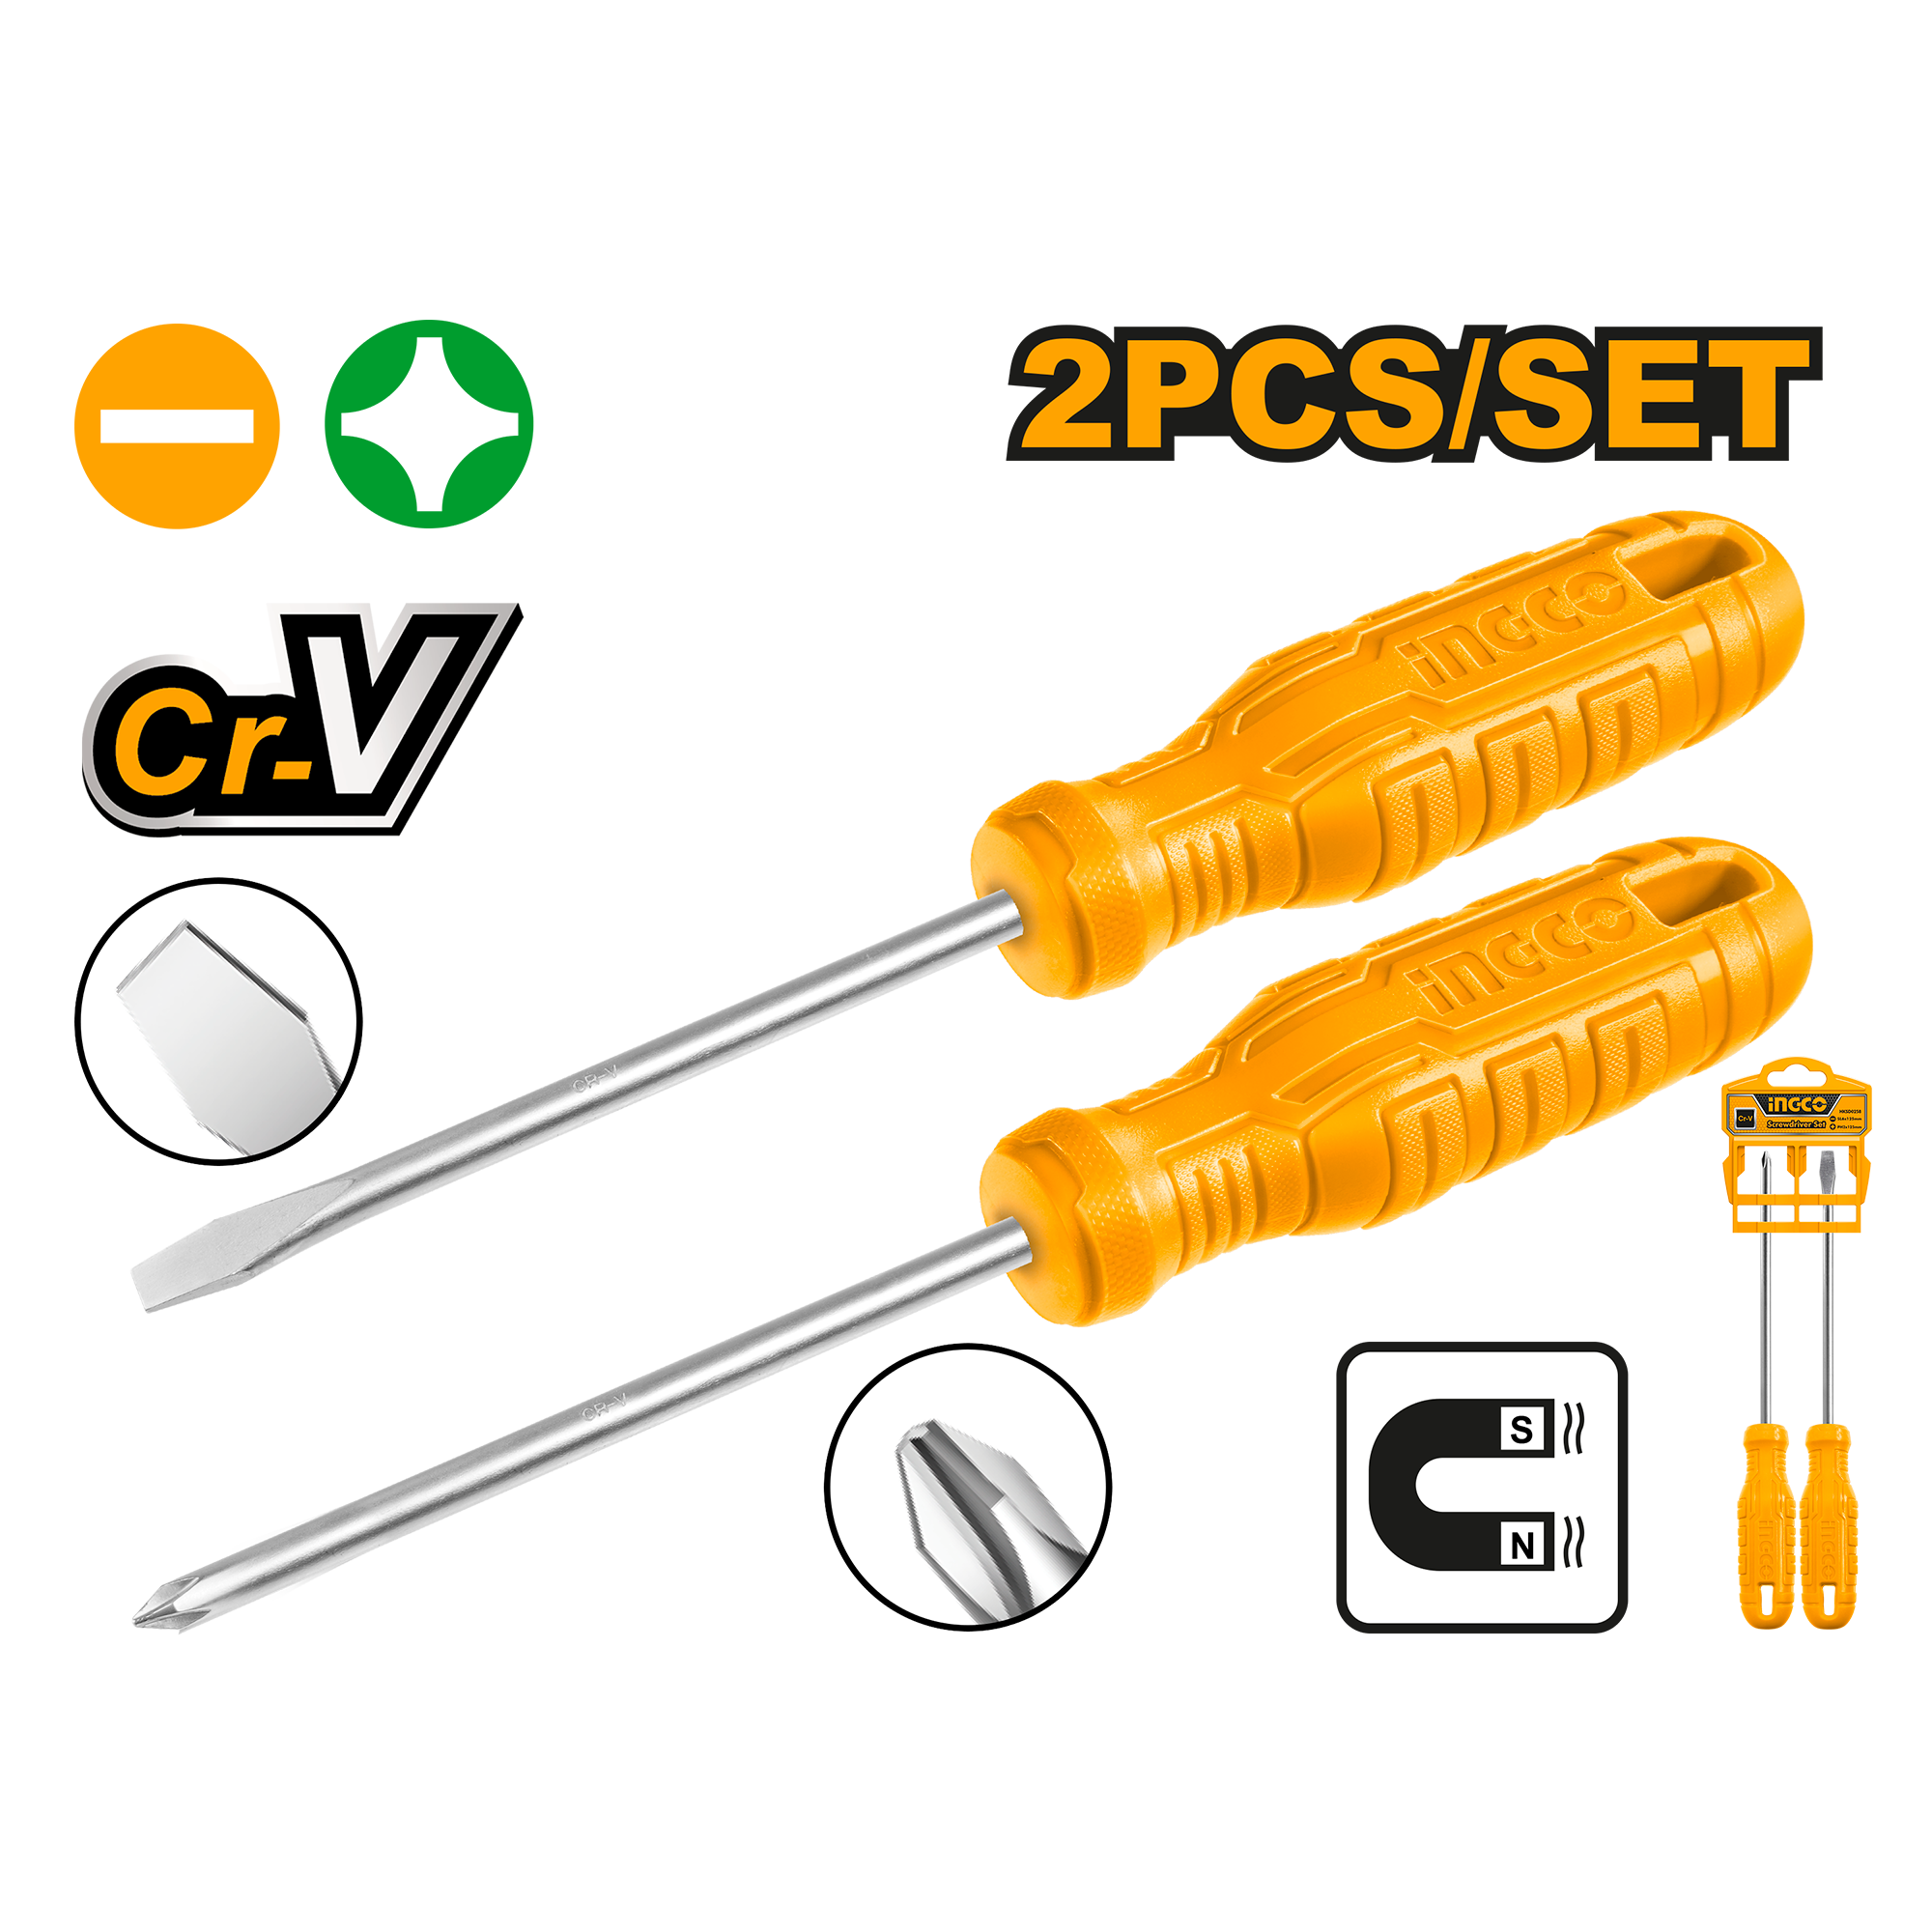screwdriver: (119, 832, 1828, 1633), (129, 513, 1801, 1311), (1734, 1150, 1803, 1631), (1801, 1152, 1865, 1631)
